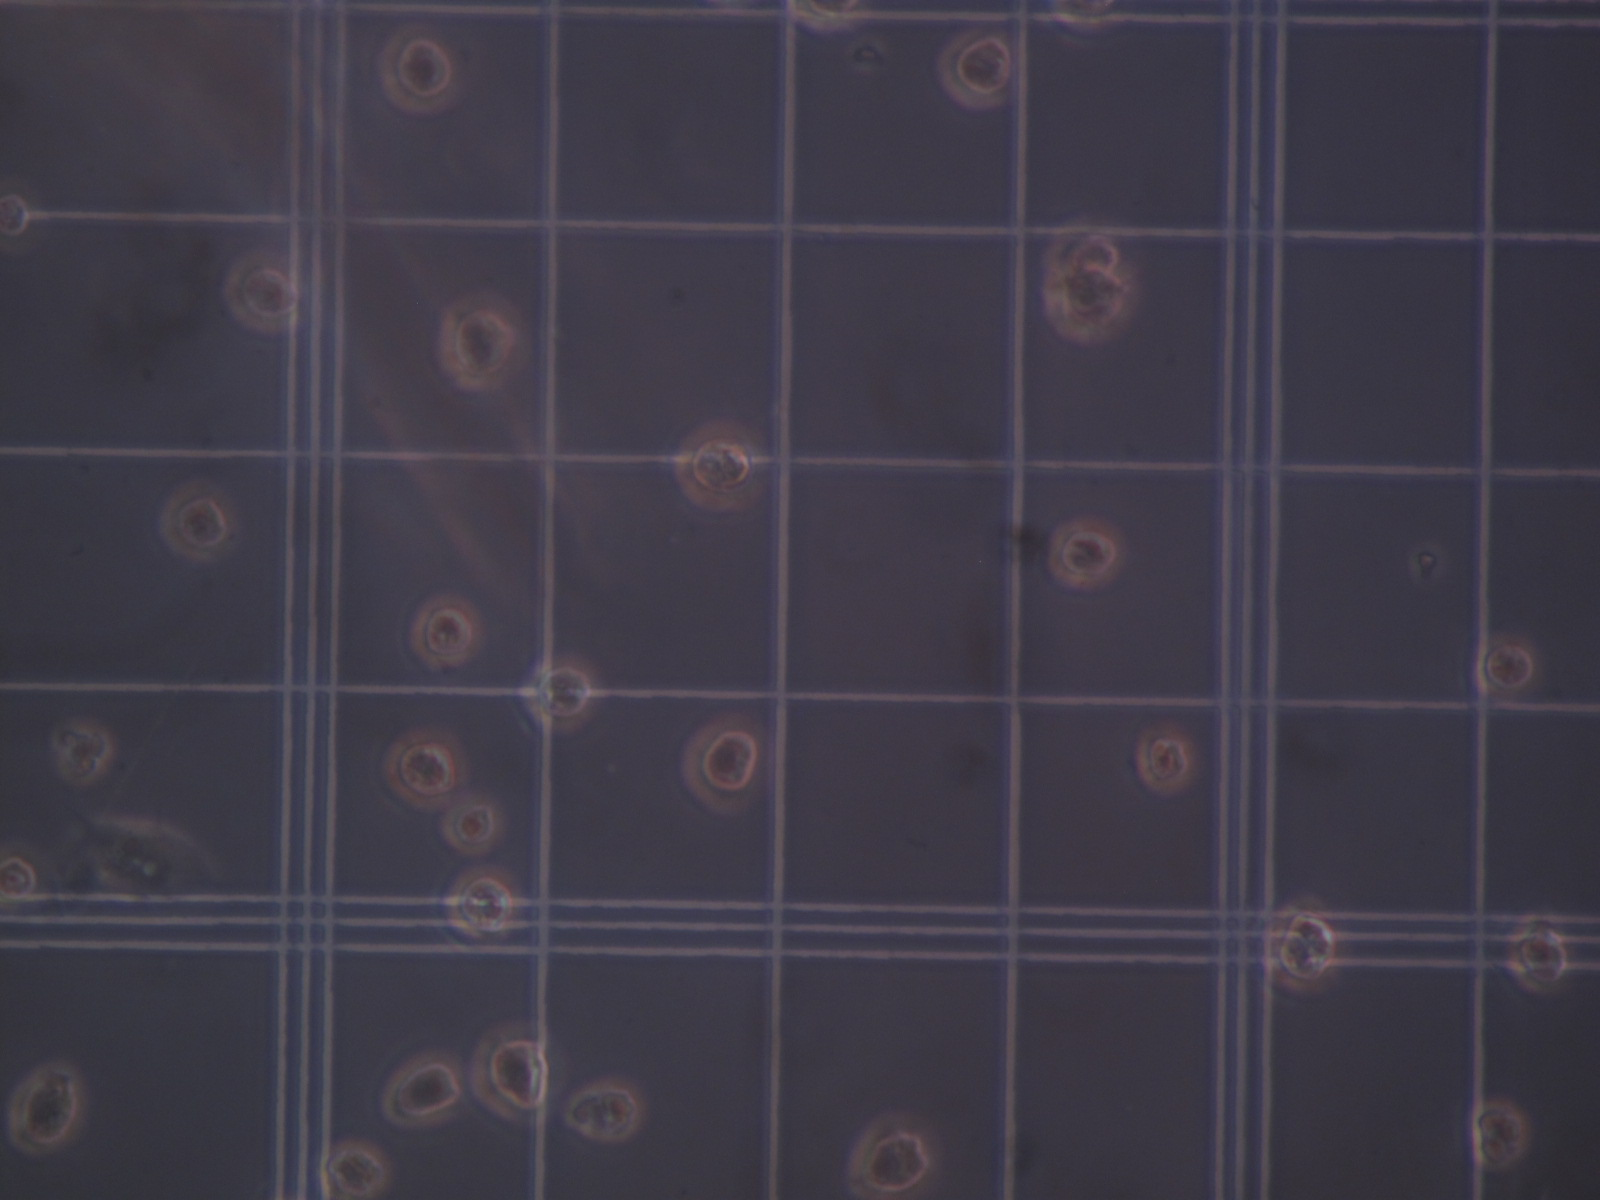hemo: (682, 711, 769, 814), (470, 1024, 554, 1126), (848, 1111, 946, 1197), (378, 21, 465, 113), (380, 720, 467, 811), (438, 291, 518, 388), (673, 420, 755, 513), (223, 245, 307, 333), (8, 1063, 86, 1155), (155, 475, 237, 561), (520, 650, 601, 735), (1043, 267, 1133, 342), (380, 1050, 464, 1129), (1267, 903, 1334, 1000), (443, 866, 522, 942), (408, 592, 484, 669), (940, 32, 1014, 110), (1046, 516, 1125, 589), (1508, 913, 1572, 995), (1043, 211, 1128, 272), (562, 1078, 640, 1142), (317, 1139, 392, 1200), (441, 790, 505, 858), (1135, 722, 1193, 794), (1474, 633, 1536, 697), (52, 716, 111, 782), (1, 834, 50, 909), (1470, 1103, 1528, 1166), (1, 184, 43, 255), (1046, 1, 1136, 32), (787, 1, 862, 33)
